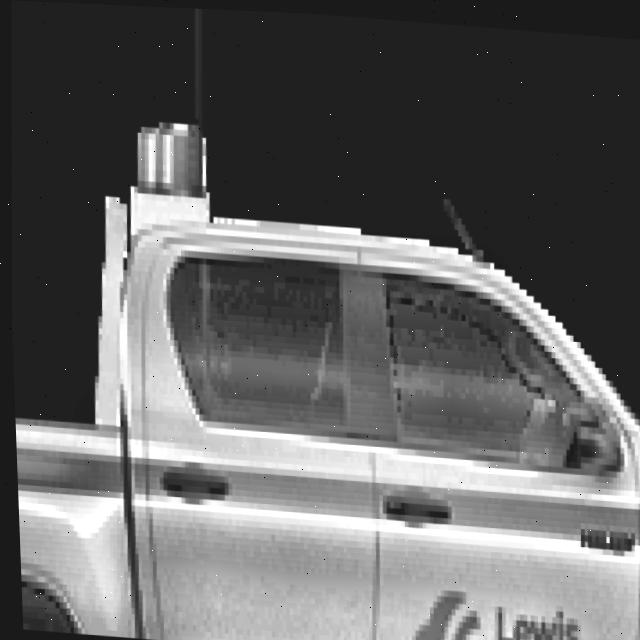light_vehicle: (0, 13, 640, 640)
